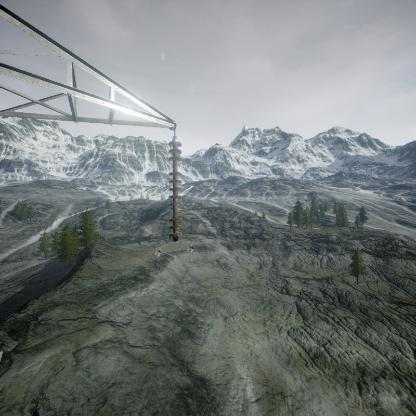insulator: (168, 136, 183, 242)
